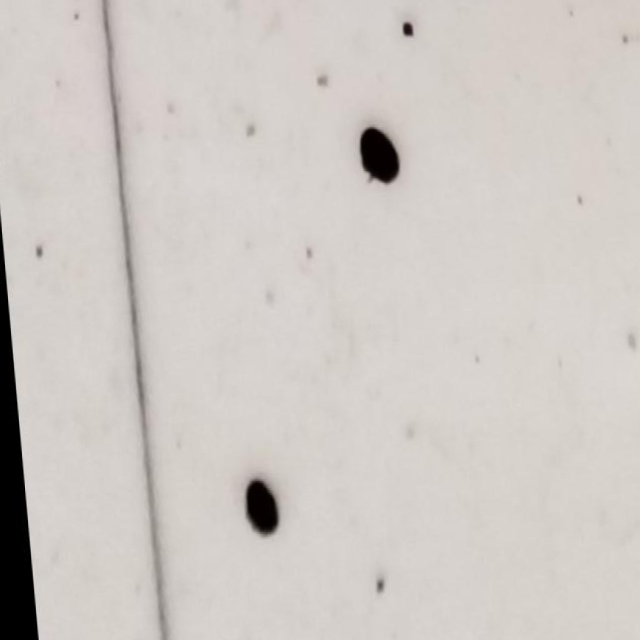varroa: (352, 128, 401, 184), (233, 476, 275, 540)
